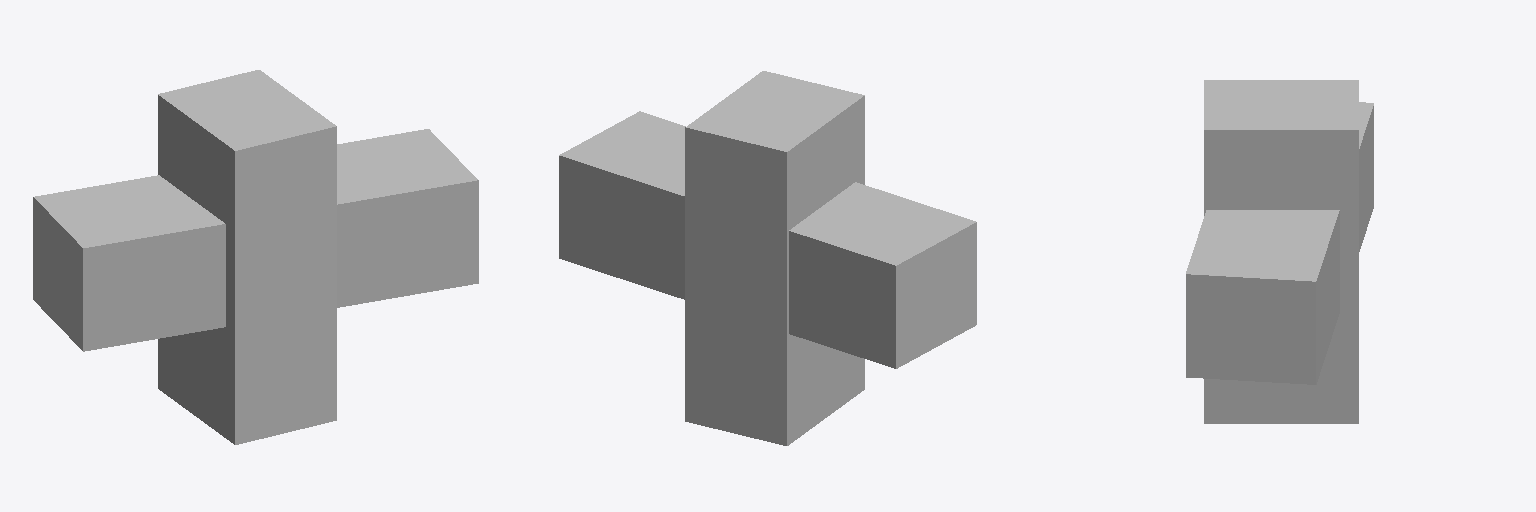
Rendered from newscene2.obj.
3 renders of one model, left to right at view 1: azimuth 30°, elevation 25°; view 2: azimuth 150°, elevation 25°; view 3: azimuth 270°, elevation 25°, orthographic.
Parts seen in each view (by area): view 1: cube1, cube4; view 2: cube1, cube4; view 3: cube1, cube4.
Part boxes in pixels (bbox=[...]): cube1: bbox=[158, 70, 336, 444]; cube4: bbox=[33, 129, 478, 351]; cube1: bbox=[685, 71, 864, 445]; cube4: bbox=[559, 111, 976, 368]; cube1: bbox=[1204, 80, 1358, 423]; cube4: bbox=[1186, 102, 1373, 384].
Size of the model in its own units: 348 by 256 by 149.